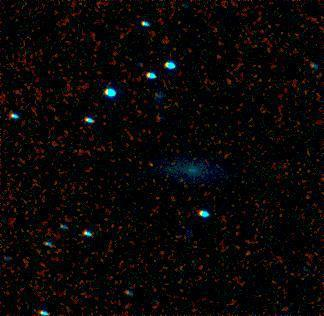star: (134, 148, 164, 178)
